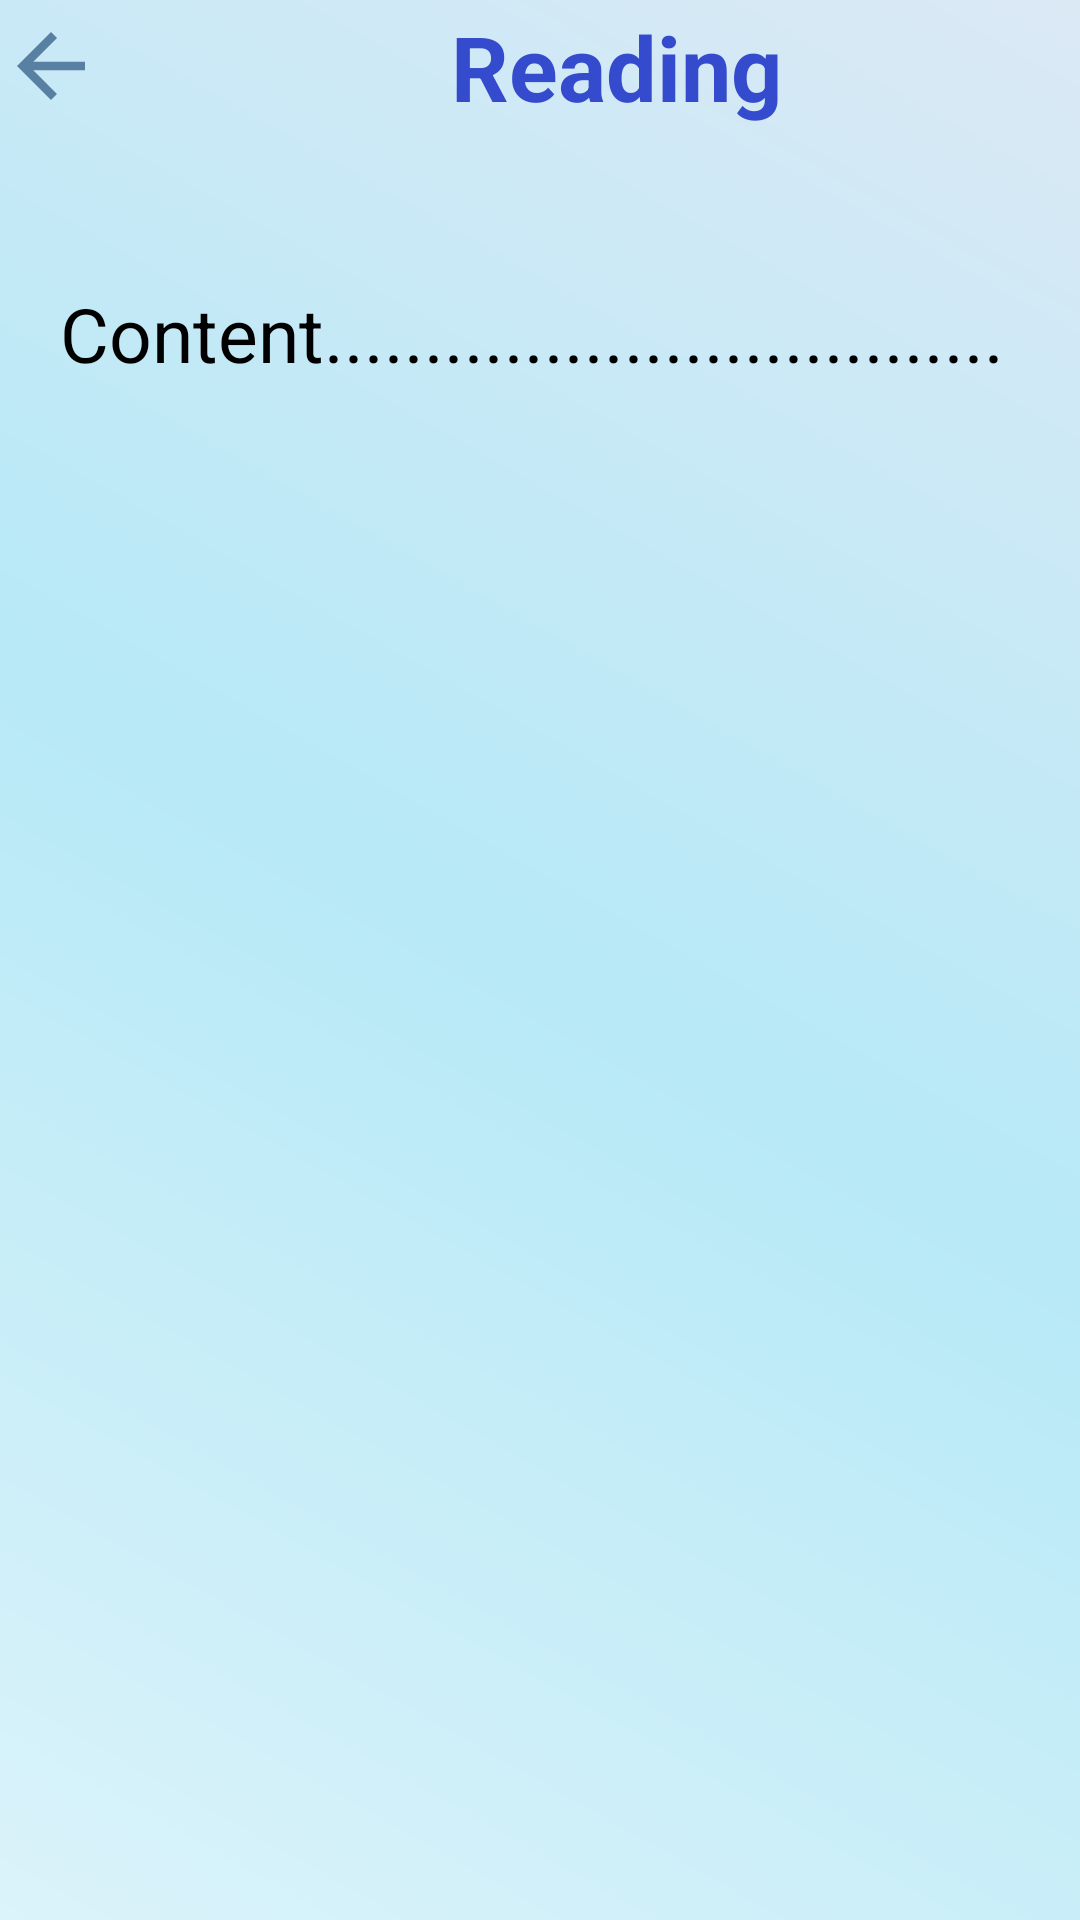

Named icons in this screenshot (1080x1920) and their centers, [x,y]:
back: [51,66]
